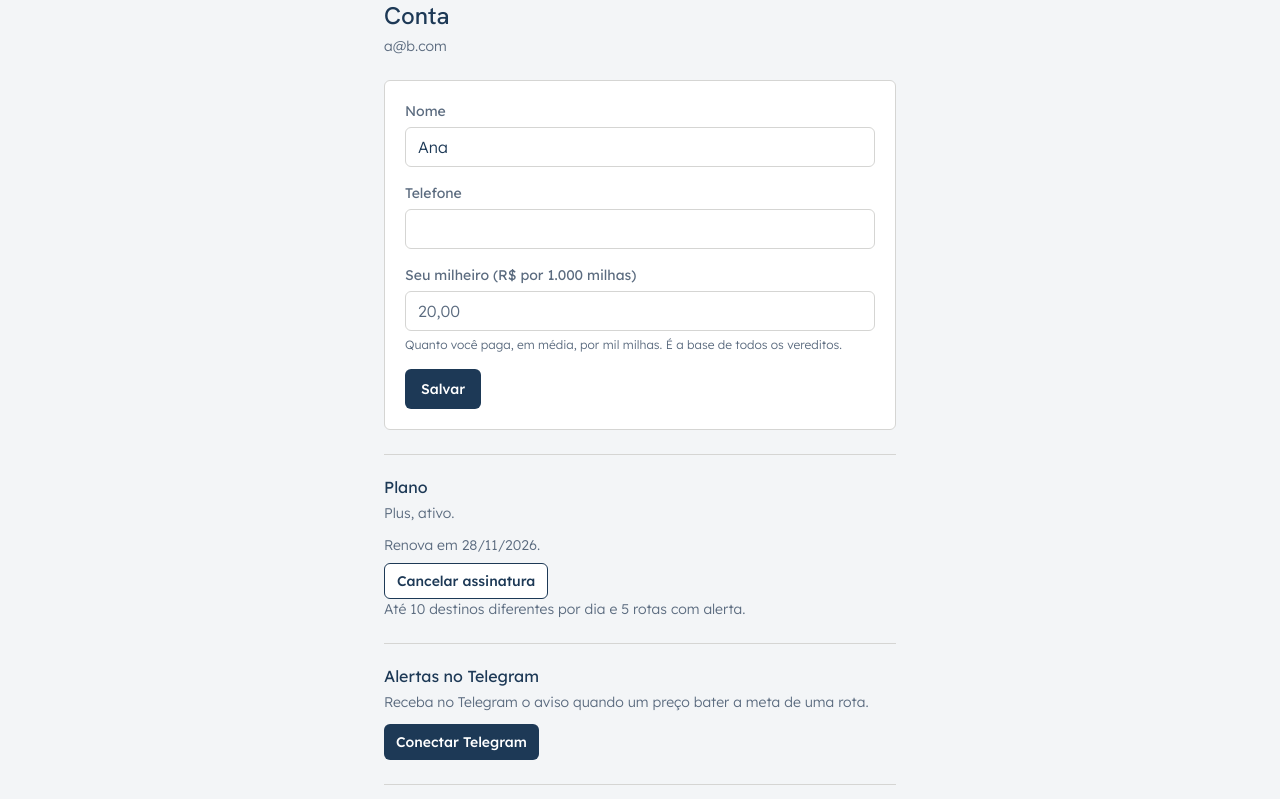
Scenario: Conta: cancelar assinatura › mostra o erro do cancelamento
Click the button "Cancelar assinatura" at (466, 581), box [384,563,548,599]
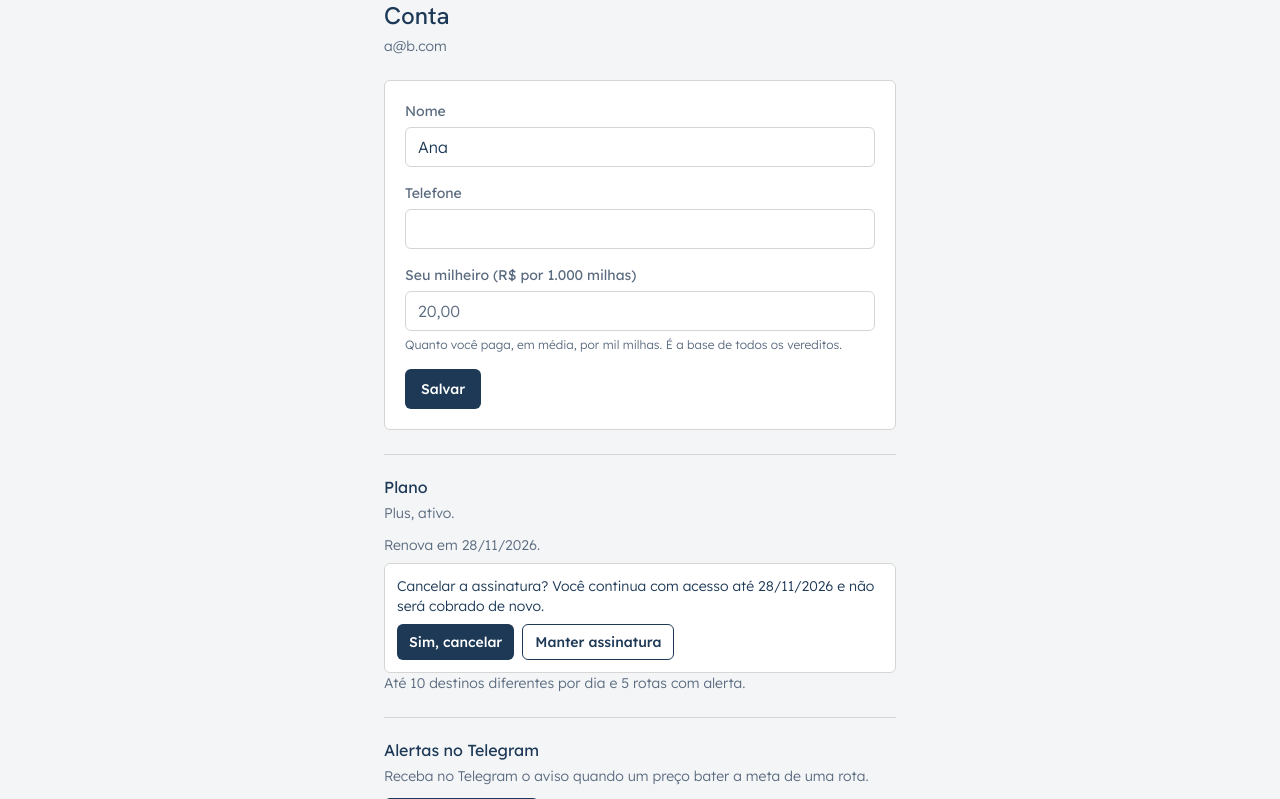
Click the button "Sim, cancelar" at (456, 642), box [397,624,514,660]
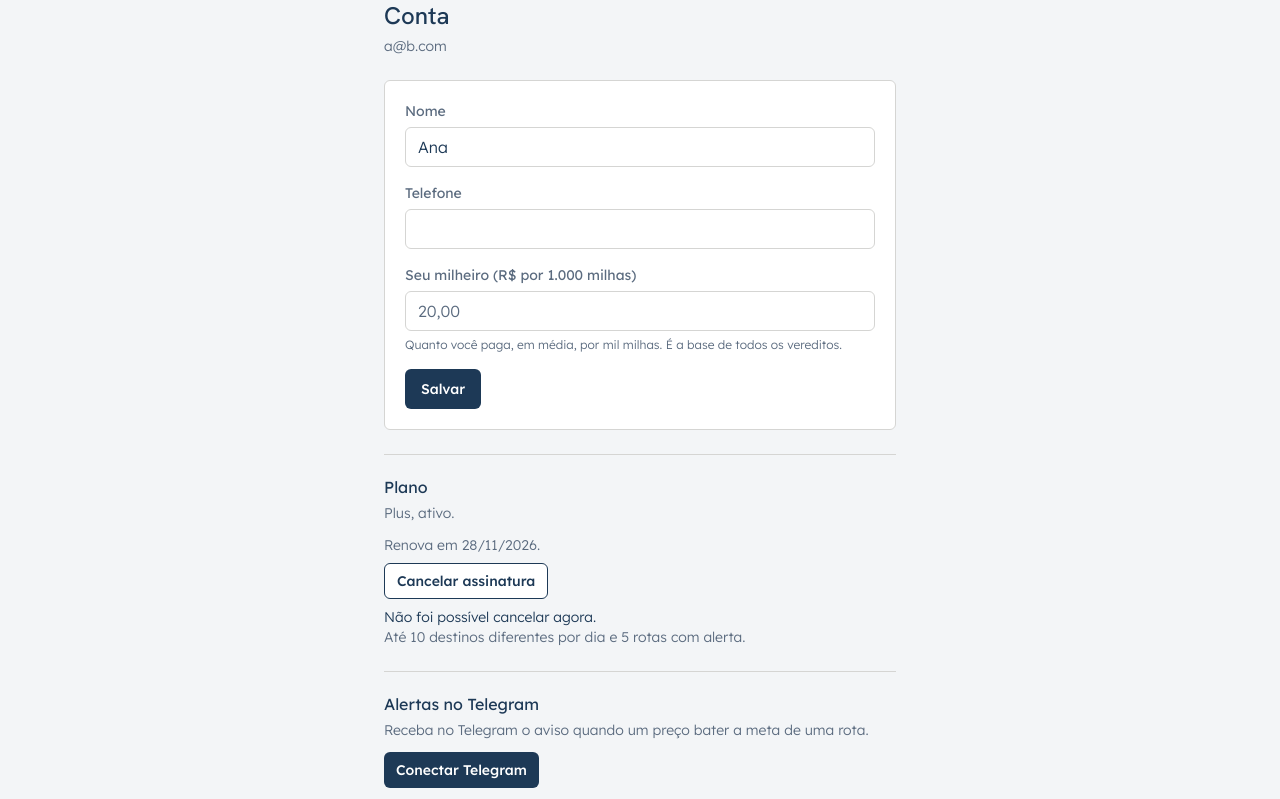
Expected: the message reads "Não foi possível cancelar agora.", [384,608,596,626]
